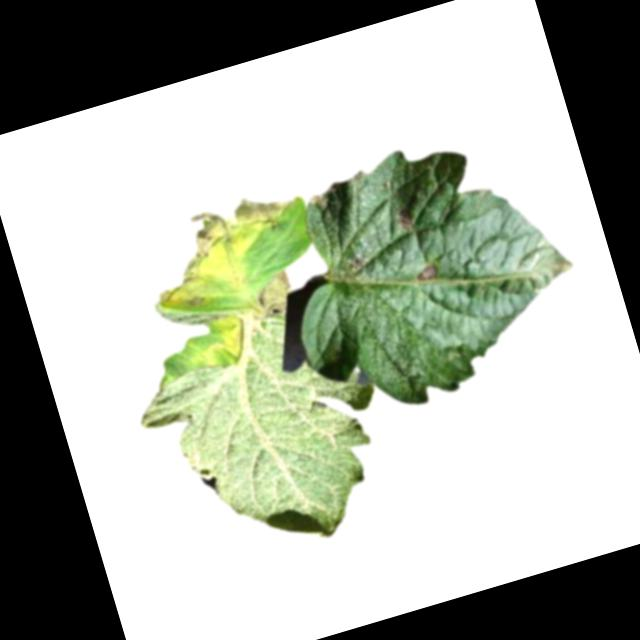Late_blight: (186, 312, 249, 369), (228, 184, 297, 234), (181, 200, 239, 257), (245, 269, 296, 319), (173, 257, 204, 286), (410, 262, 441, 288), (343, 252, 368, 277), (395, 208, 416, 235), (183, 294, 208, 310)
